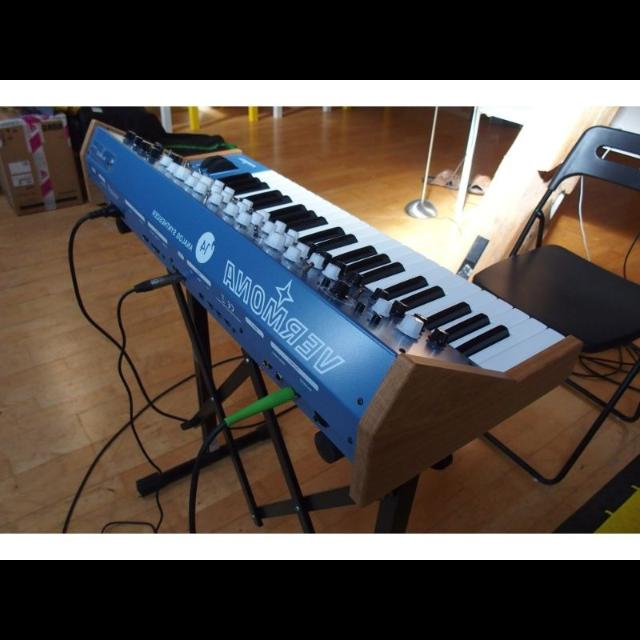Electronic-Keyboard: (59, 120, 592, 504)
